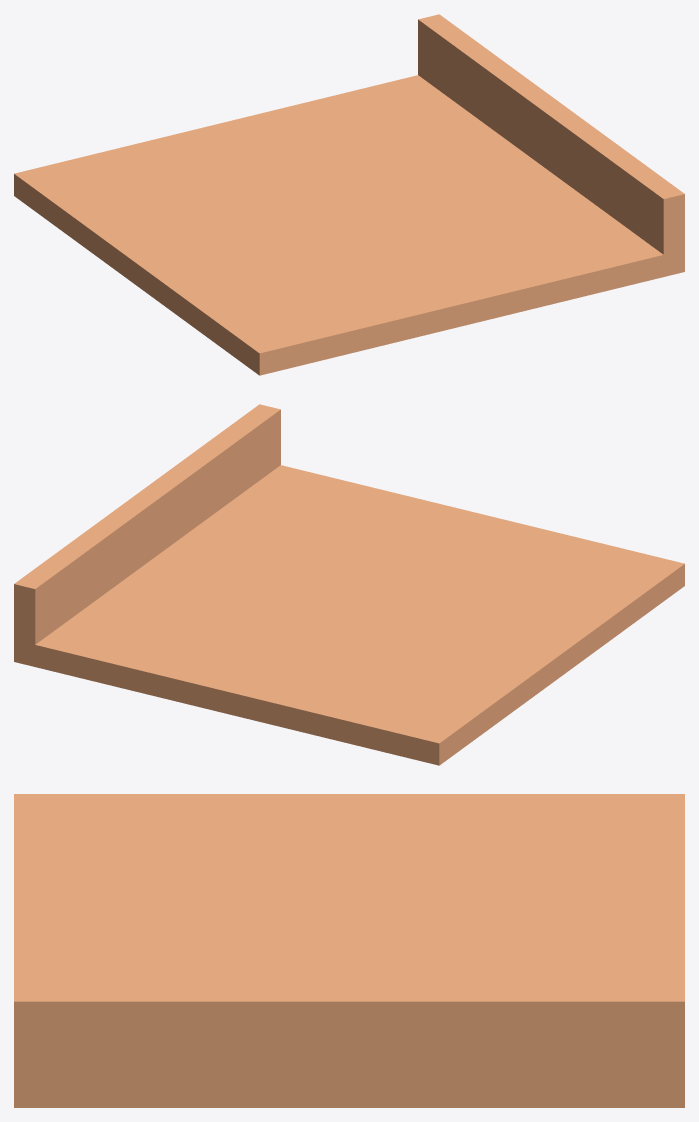
Rendered from BeigeRoof_1Edge.glb.
3 renders of one model, top to bottom at view 1: azimuth 30°, elevation 25°; view 2: azimuth 150°, elevation 25°; view 3: azimuth 270°, elevation 25°, orthographic. The views are drawn at different scales.
Visible parts, largest first — view 1: roof_flat_1Edge_beige; view 2: roof_flat_1Edge_beige; view 3: roof_flat_1Edge_beige.
Boxes of the visible parts, box(x1,y1,x2,y2) form: roof_flat_1Edge_beige: box(14, 14, 684, 375); roof_flat_1Edge_beige: box(14, 404, 684, 765); roof_flat_1Edge_beige: box(14, 794, 684, 1107).
Bounding box in the file's own units: 4 × 0.7 × 4.
Materials: 1 (1 with a texture image).
